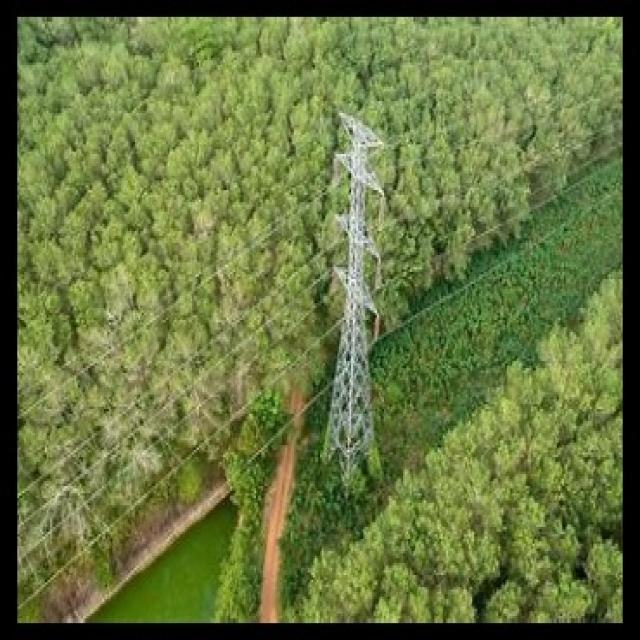utility poles: (323, 76, 402, 487)
